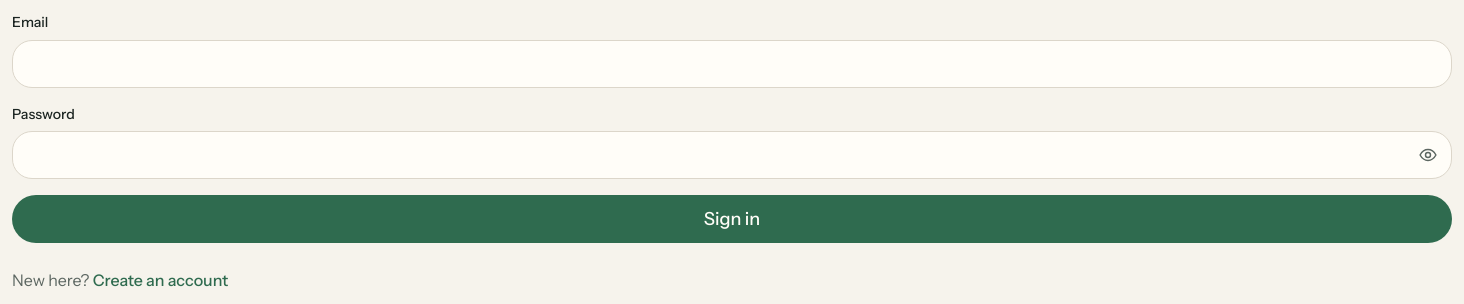
it: password visibility toggle › works from the keyboard and keeps focus on the toggle
Click the password field labelled "Password" at (732, 155), box [12,131,1452,179]
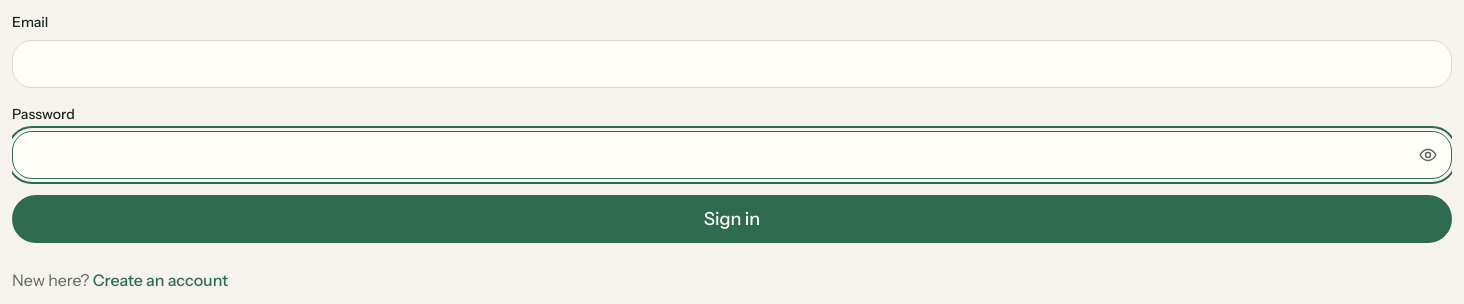
Type keys "fake-test-password"
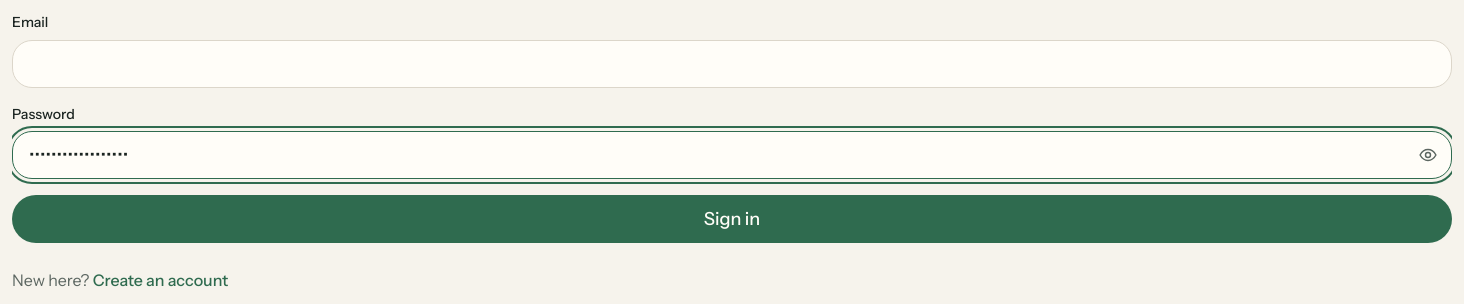
Press Tab
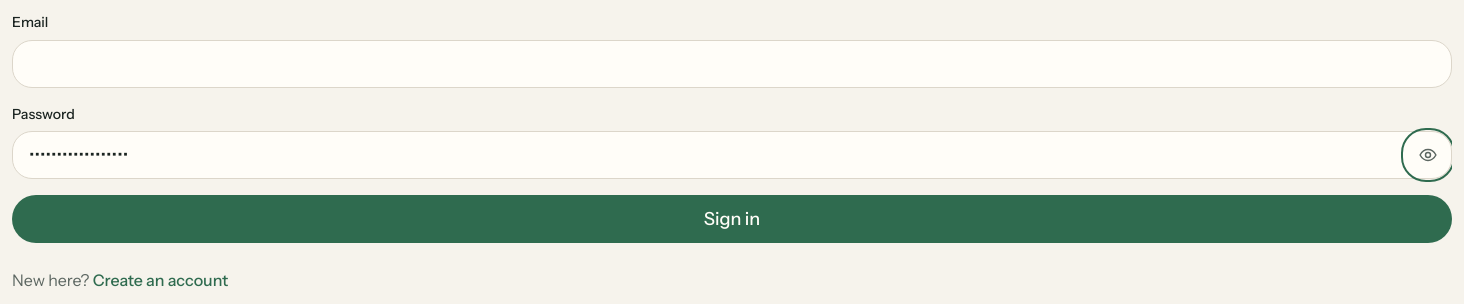
Press Enter
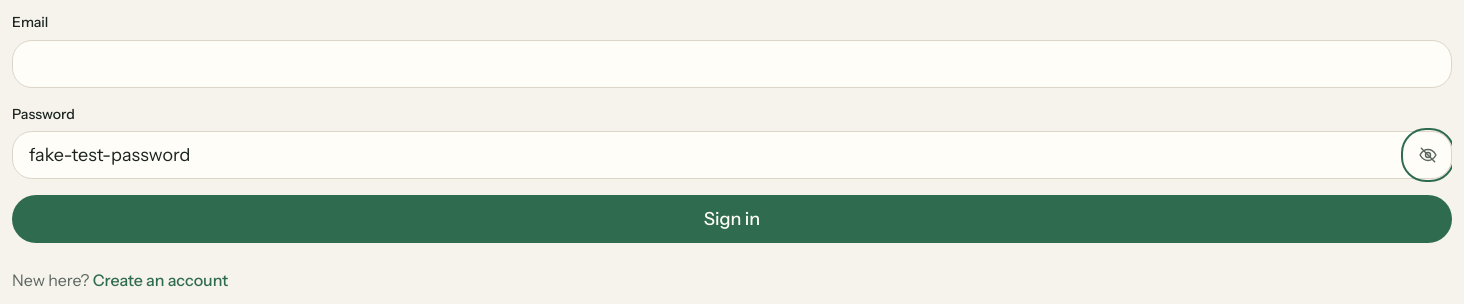
Now the field labelled "Password" shows its text, box [12,131,1452,179]
Type keys " "
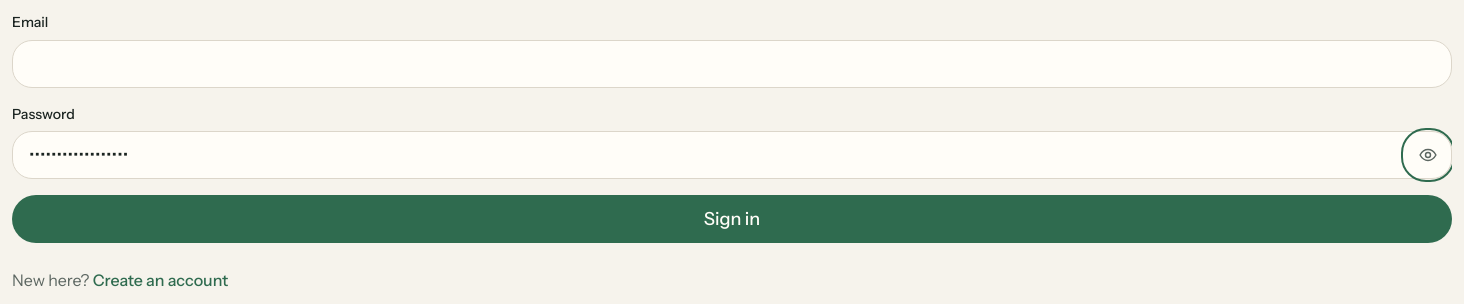
Now the password field labelled "Password" hides its text, box [12,131,1452,179]
